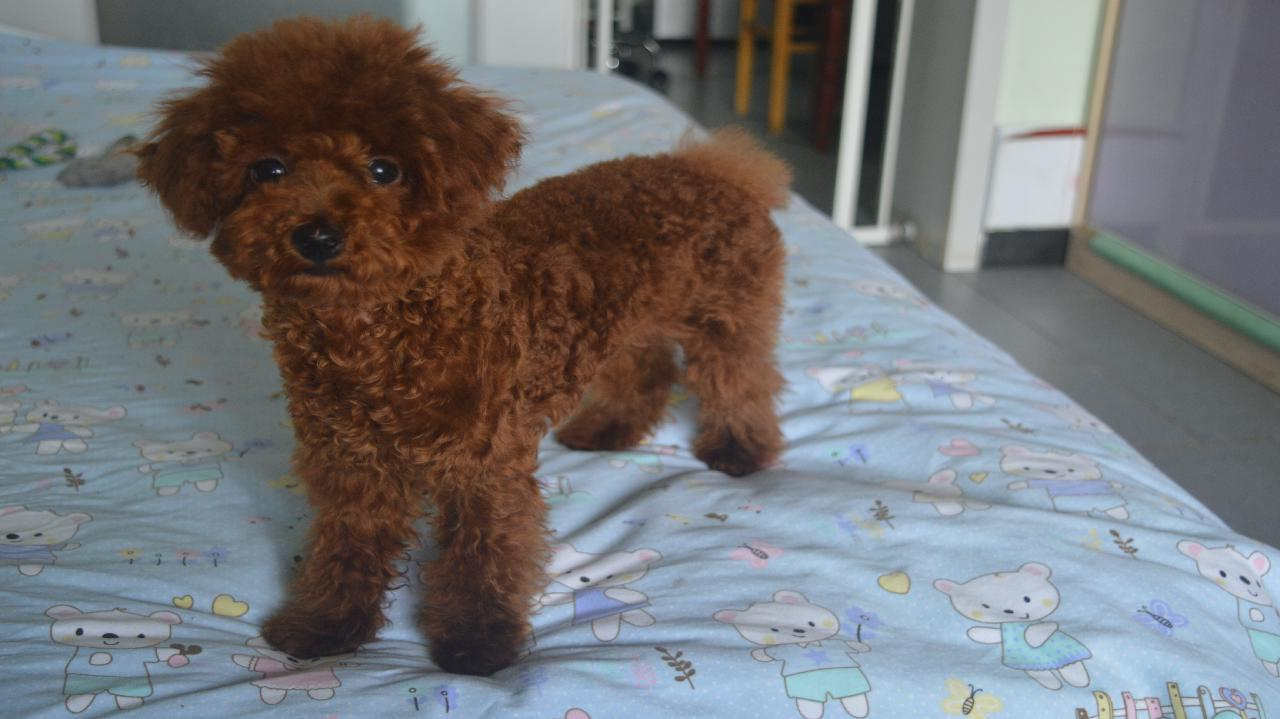coin: (121, 18, 813, 666)
